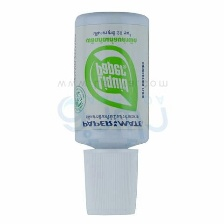correction_fluid: (69, 7, 153, 219)
